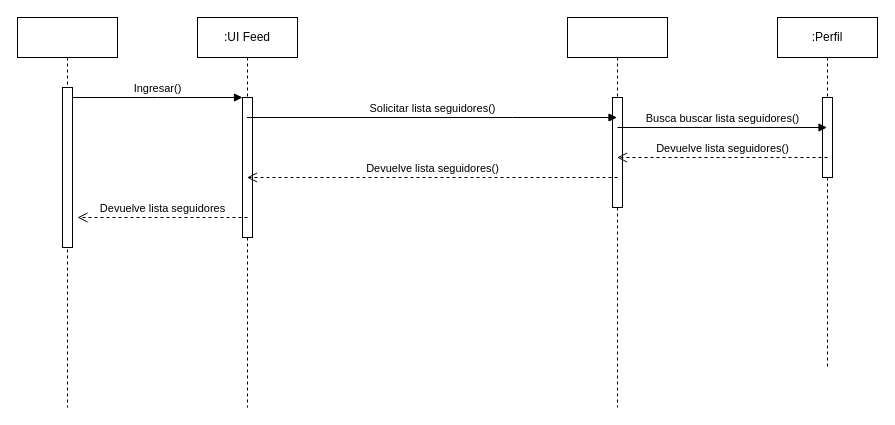
The diagram is 895 pixels wide and 425 high, and some of its shapes have lost their labels. Here are the shapes that lost their labels. From the top down, the centre of each, then its label:
At point (67, 212): ":Usuario".
At point (617, 212): ":Control_Usuario".
